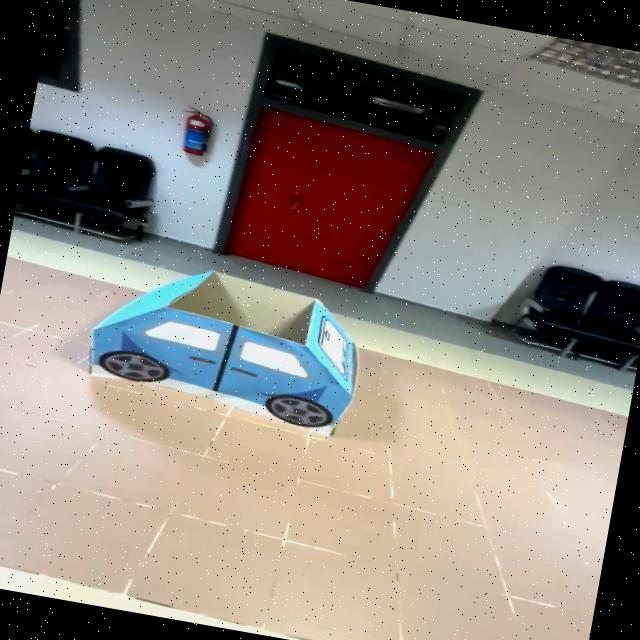blue_car: (61, 241, 430, 456)
